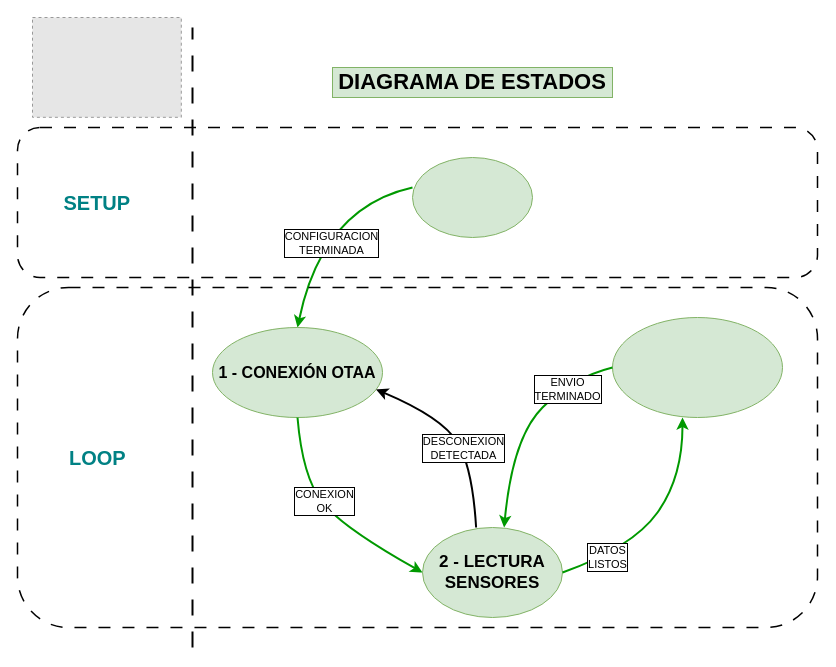
Image size: 836x667. Some labels were removed from this diagram. Grey dashed boxes stand in for pictures. Here are the shapes that lost their labels. From the top down, the box of each, then its label:
(412, 156, 532, 238): 0 - INICIO
(612, 316, 782, 418): 3 - ENVIO DATOS POR LORAWAN
